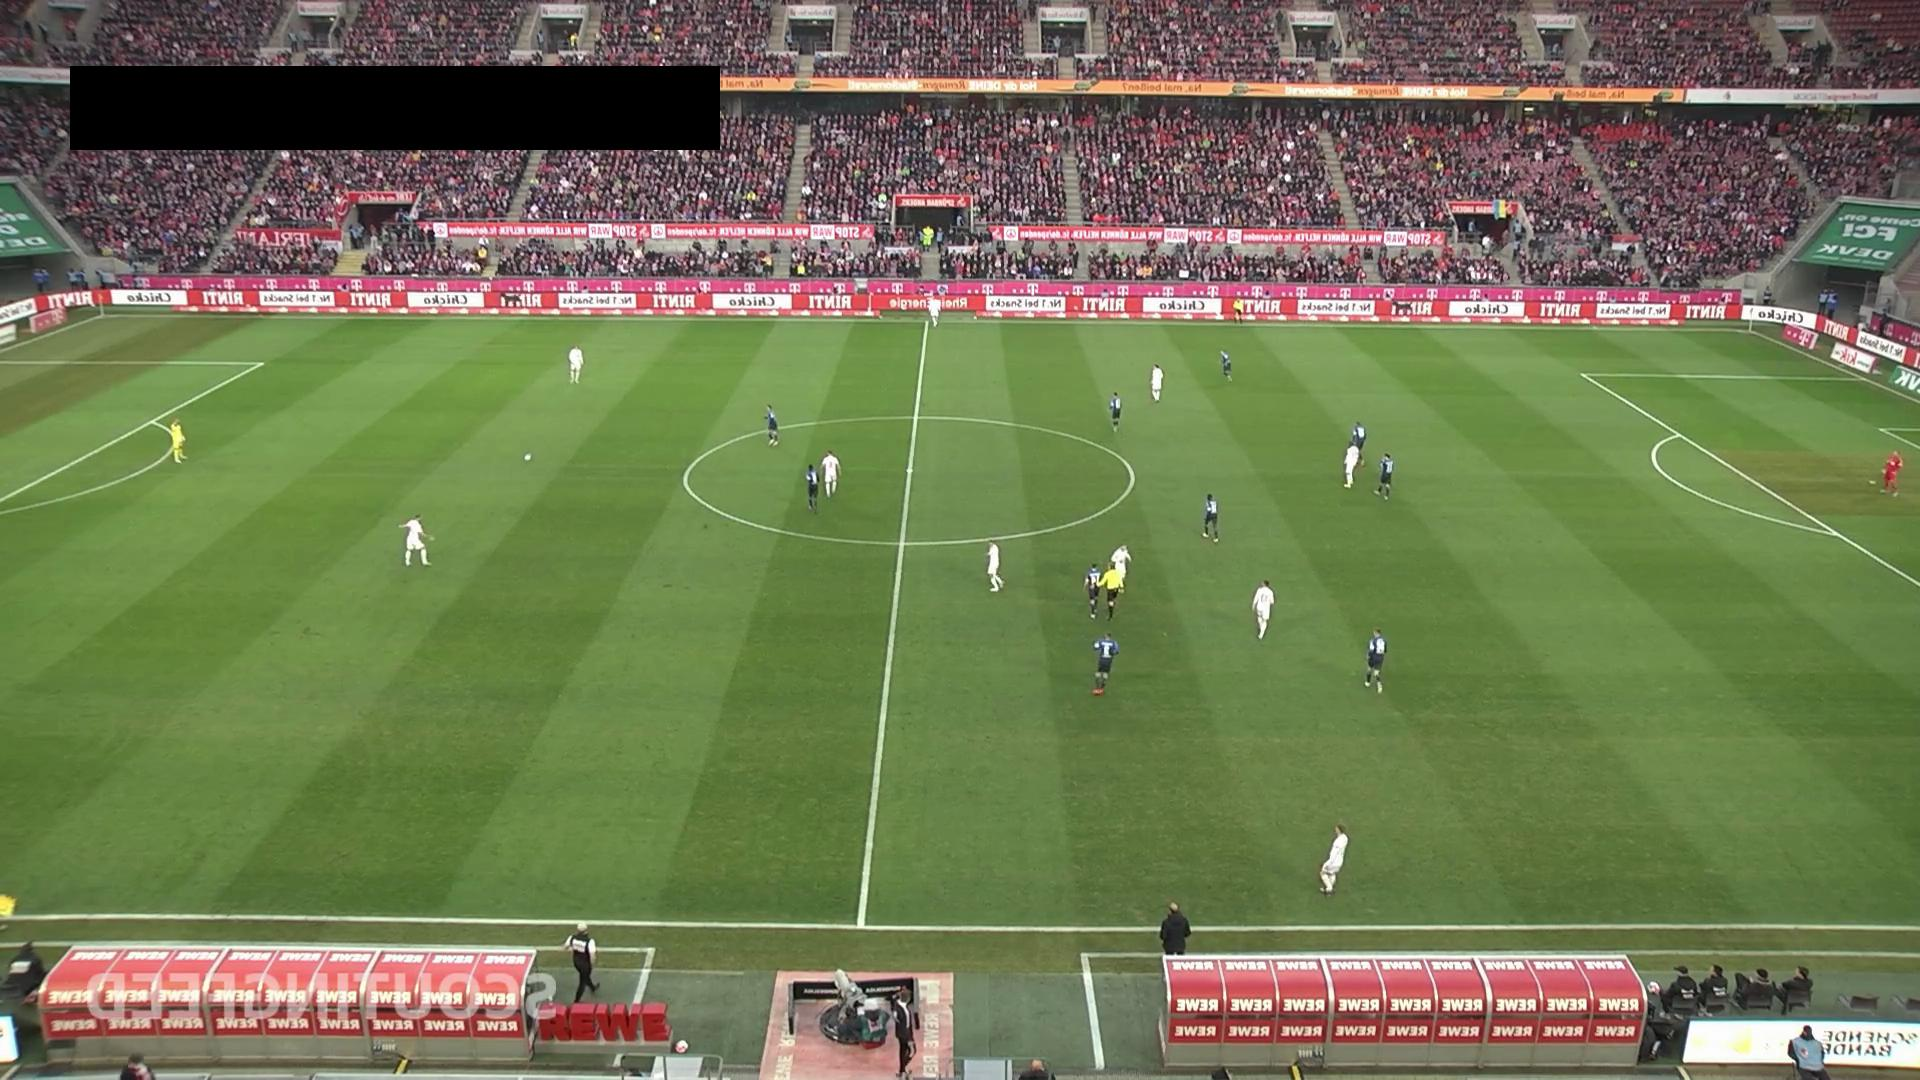ball: (523, 451, 534, 463)
goalkeeper: (1882, 450, 1904, 497), (167, 417, 188, 465)
player: (1318, 822, 1349, 895), (397, 513, 435, 567), (1091, 631, 1120, 695), (1364, 626, 1387, 693), (1252, 578, 1275, 640), (1111, 542, 1133, 589), (820, 449, 841, 498), (984, 540, 1004, 591), (1374, 452, 1395, 500), (1084, 562, 1101, 619), (1343, 441, 1362, 489), (1350, 418, 1368, 466), (1202, 492, 1219, 542), (805, 462, 819, 514), (567, 344, 584, 384), (765, 403, 780, 447), (1150, 362, 1164, 403), (1109, 391, 1122, 432), (1219, 349, 1233, 381), (927, 297, 941, 328)
referee: (1098, 562, 1125, 621), (1232, 295, 1245, 323)
